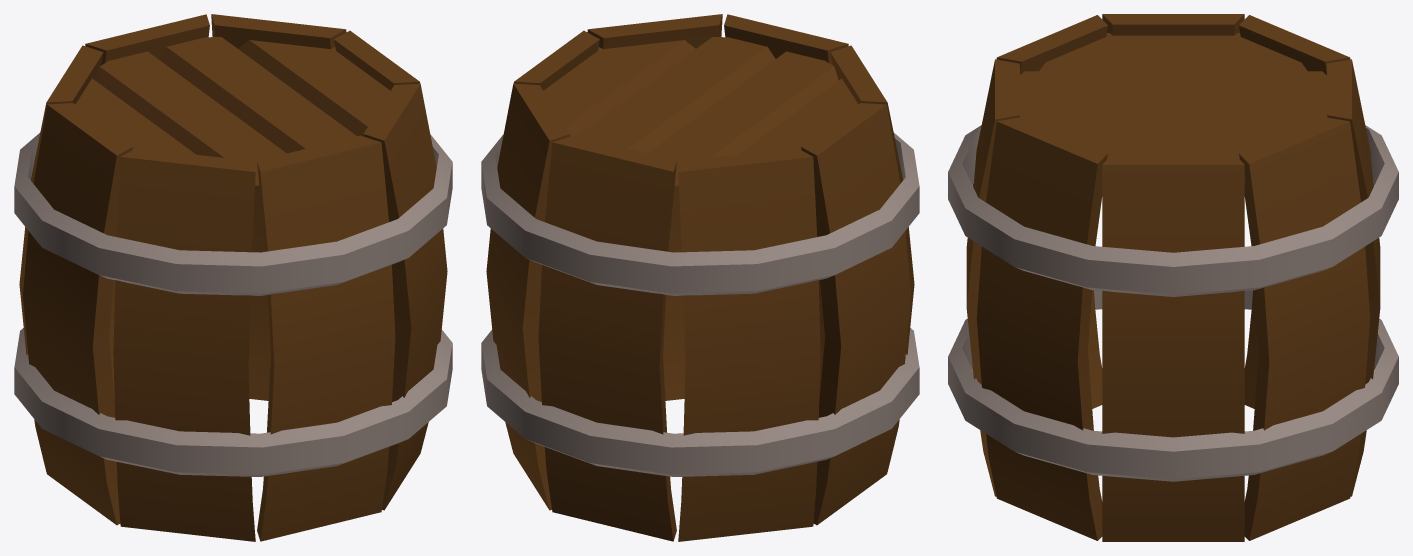
File: prop-barrel.glb
3 views of the same model, side by side, from view 1: azimuth 30°, elevation 25°; view 2: azimuth 150°, elevation 25°; view 3: azimuth 270°, elevation 25° (orthographic).
Parts seen in each view (by area): view 1: Prop_Barrel; view 2: Prop_Barrel; view 3: Prop_Barrel.
Boxes of the visible parts, x1,y1,x2,y2 form: Prop_Barrel: (14, 14, 452, 541); Prop_Barrel: (481, 14, 919, 541); Prop_Barrel: (948, 14, 1398, 541).
Bounding box in the file's own units: 0.7147 × 0.6599 × 0.7147.
Materials: 1 (1 with a texture image).
